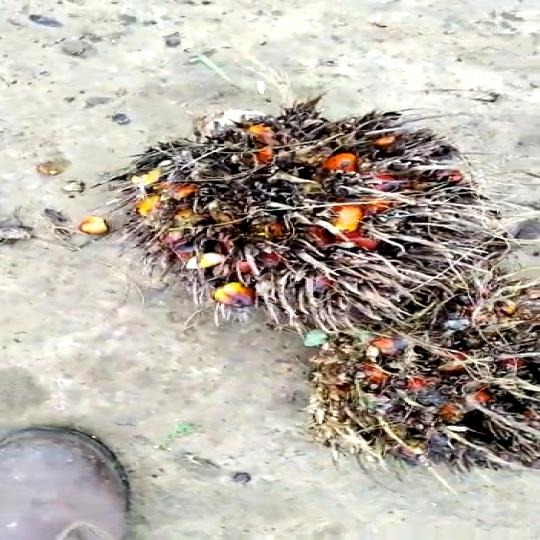terlalu masak: (94, 106, 483, 320), (292, 472, 295, 474)
